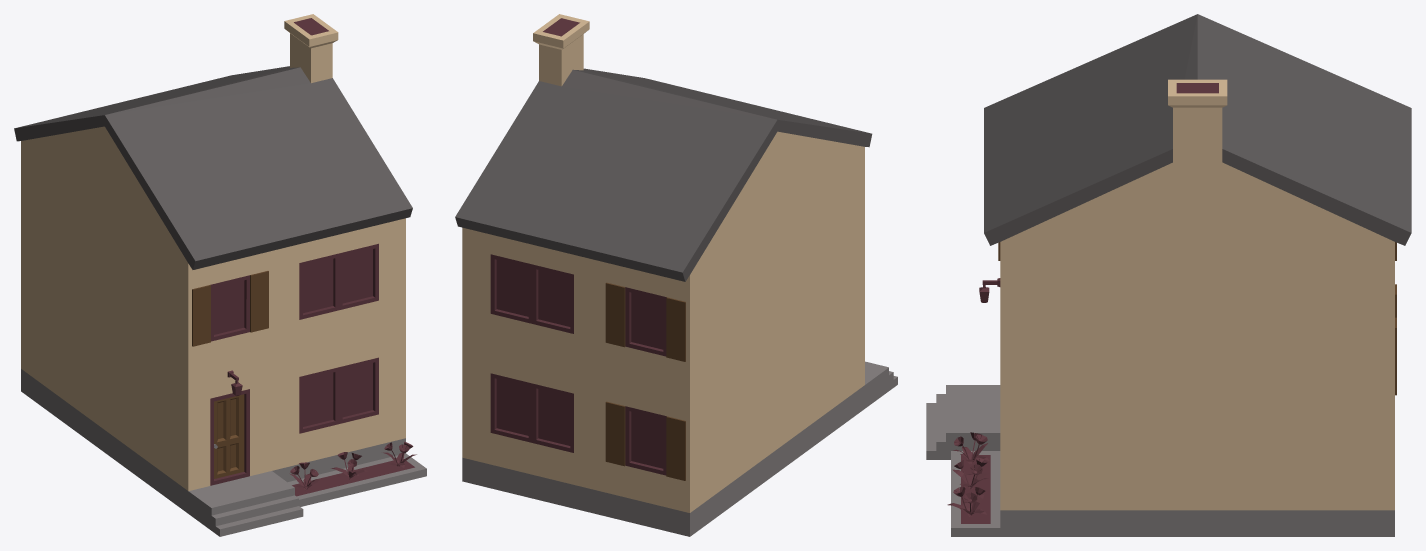
File: building-house-block.fbx
3 views of the same model, side by side, from view 1: azimuth 30°, elevation 25°; view 2: azimuth 150°, elevation 25°; view 3: azimuth 270°, elevation 25° (orthographic). The views are drawn at different scales.
Parts seen in each view (by area): view 1: building-house-block; view 2: building-house-block; view 3: building-house-block.
Part boxes in pixels (x1=…): building-house-block: x1=14, y1=14, x2=426, y2=536; building-house-block: x1=455, y1=14, x2=897, y2=536; building-house-block: x1=926, y1=14, x2=1411, y2=536.
Bounding box in the file's own units: 6.1 × 9.9 × 9.84.
